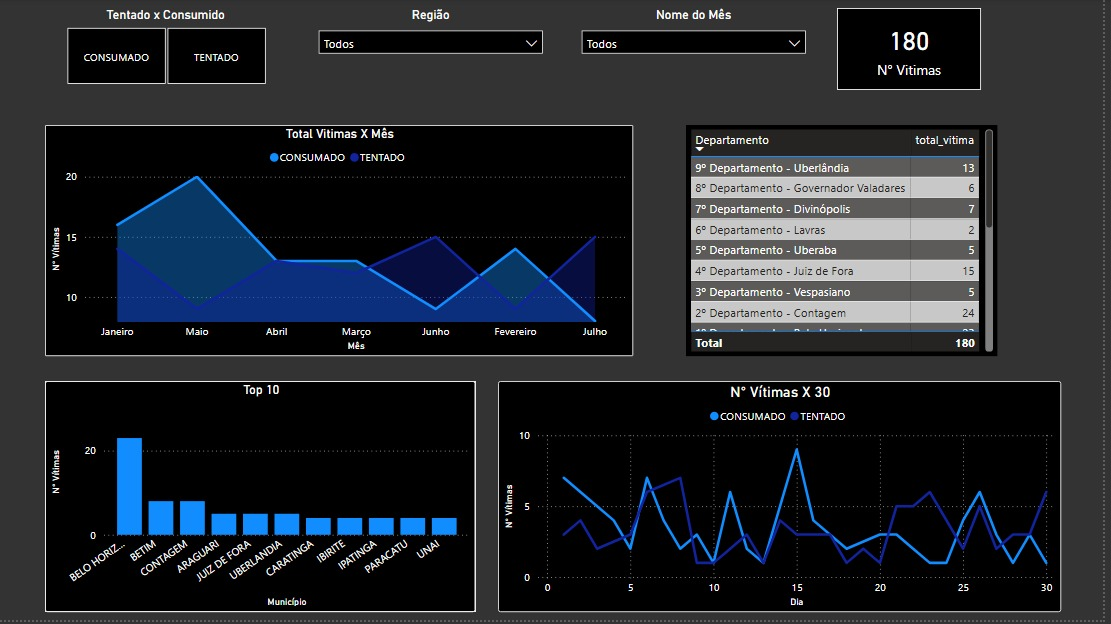

The dashboard page shown, as its layout file describes it:
{"tool":"powerbi","page":{"name":"Página 1","canvas":[1280,720],"ordinal":0},"visuals":[{"type":"slicer","title":"Região","fields":{"Values":["feminicidio_2023.Minas Gerais"]},"box":[360.5,10.4,279.7,95.3],"z":0},{"type":"slicer","title":"Nome do Mês","fields":{"Values":["feminicidio_2023.Nome do MêS"]},"box":[665.1,10.4,279.7,95.3],"z":1000},{"type":"card","fields":{"Values":["Sum(feminicidio_2023.qtde_vitimas)"]},"box":[971.7,10.4,166.8,95.3],"z":2000},{"type":"clusteredColumnChart","title":"Top 10","fields":{"Category":["feminicidio_2023.municipio_fato"],"Y":["Sum(feminicidio_2023.qtde_vitimas)"]},"box":[53.9,442.4,499.3,268.3],"z":3000},{"type":"areaChart","title":"Total Vitimas X Mês","fields":{"Y":["feminicidio_2023.total_vitima"],"Series":["feminicidio_2023.tentado_consumado"],"Category":["feminicidio_2023.Nome do MêS"]},"box":[53.9,146.1,681.7,268.3],"z":4000},{"type":"lineChart","title":"N° Vítimas X 30","fields":{"Y":["feminicidio_2023.total_vitima"],"Series":["feminicidio_2023.tentado_consumado"],"Category":["feminicidio_2023.data_fato.Variation.Hierarquia de datas.Dia"]},"box":[579.1,442.4,652.7,268.3],"z":5000},{"type":"tableEx","fields":{"Values":["feminicidio_2023.Departamento","feminicidio_2023.total_vitima"]},"box":[796.7,146.1,360.5,268.3],"z":6000},{"type":"slicer","title":"Tentado x Consumido","fields":{"Values":["feminicidio_2023.tentado_consumado"]},"box":[53.9,10.4,279.7,95.3],"z":7000}]}

Visuals, with their boxes in screenshot pixels (x1, y1, x2, y2), scaled from the page's 1280x720 canvas onto the 1111x624 screenshot:
"Região" slicer: 313:9:556:92
"Nome do Mês" slicer: 577:9:820:92
card - Sum(feminicidio_2023.qtde_vitimas): 843:9:988:92
"Top 10" clusteredColumnChart: 47:383:480:616
"Total Vitimas X Mês" areaChart: 47:127:638:359
"N° Vítimas X 30" lineChart: 503:383:1069:616
tableEx - feminicidio_2023.Departamento x feminicidio_2023.total_vitima: 692:127:1004:359
"Tentado x Consumido" slicer: 47:9:290:92
